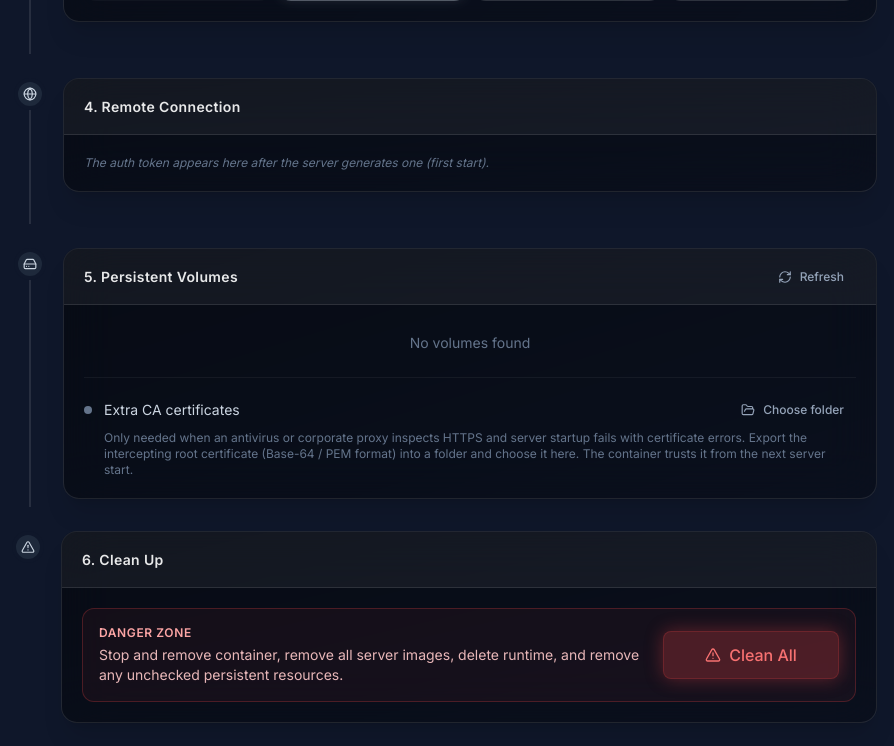
it: Extra CA certificates picker (GH-200) › persists a chosen folder and shows it in the Volumes card
The image size is (894, 746).
(page scrolled)
expect the text "Extra CA certificates" is shown: met, box [104,400,240,420]
Step 1. Click the button "Choose folder" → (793, 410), box [729,394,856,426]
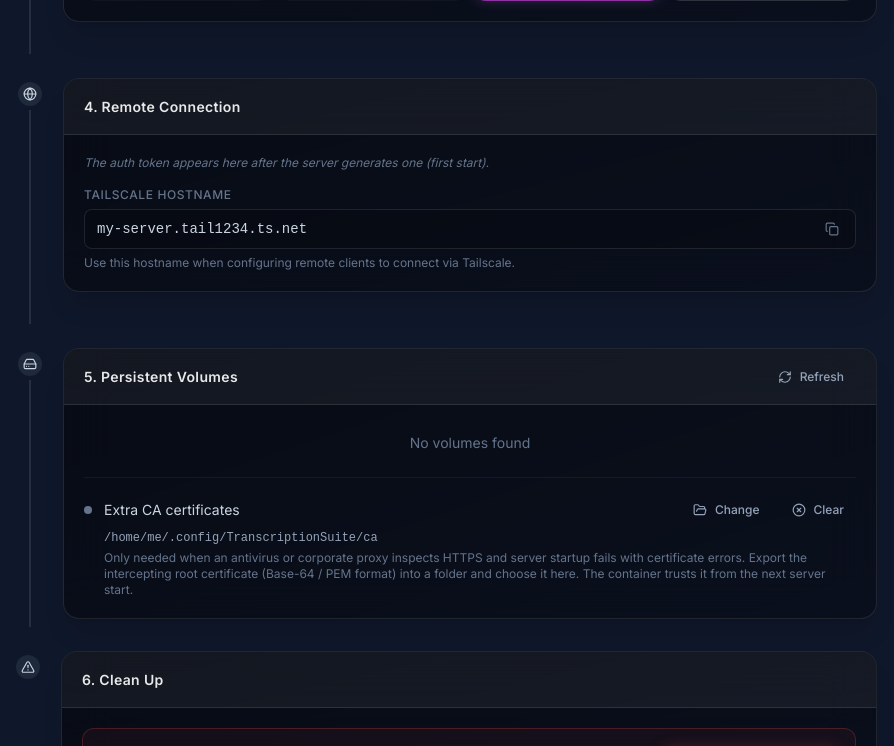
expect the text "/home/me/.config/TranscriptionSuite/ca" is shown: met, box [104,531,378,545]
expect the button "Change" is shown: met, box [681,494,772,526]
expect the button "Choose folder" is gone: met
